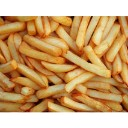frenchfries: (1, 15, 128, 112)
